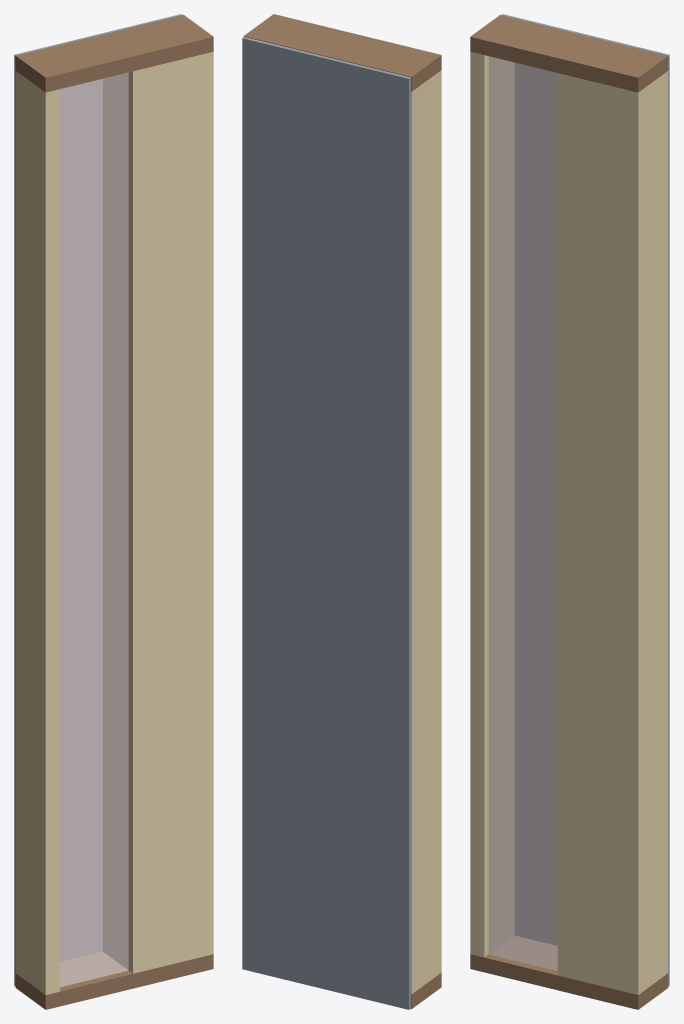
3 views of the same model, side by side, from view 1: azimuth 30°, elevation 25°; view 2: azimuth 150°, elevation 25°; view 3: azimuth 330°, elevation 25° (orthographic).
Visible parts, largest first — view 1: EX11 GF; view 2: EX11 GF; view 3: EX11 GF.
Part boxes in pixels (<box>): EX11 GF: <box>14,14,213,1009</box>; EX11 GF: <box>242,14,441,1009</box>; EX11 GF: <box>470,14,669,1009</box>.
Bounding box in the file's own units: 0.45 × 2.39 × 0.149.
